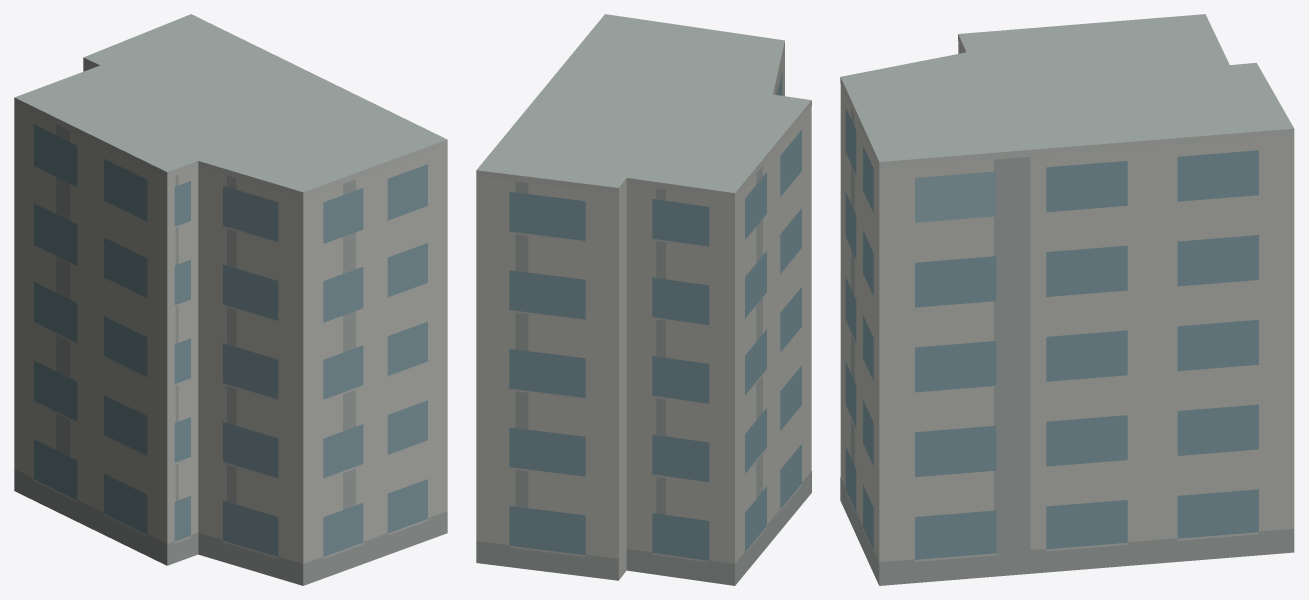
File: survey-upis-32876627.glb
3 views of the same model, side by side, from view 1: azimuth 30°, elevation 25°; view 2: azimuth 150°, elevation 25°; view 3: azimuth 270°, elevation 25° (orthographic). The views are drawn at different scales.
Visible parts, largest first — view 1: survey-upis-32876627.tmp; view 2: survey-upis-32876627.tmp; view 3: survey-upis-32876627.tmp.
Part boxes in pixels (x1=…): survey-upis-32876627.tmp: x1=14, y1=14, x2=447, y2=585; survey-upis-32876627.tmp: x1=476, y1=14, x2=811, y2=585; survey-upis-32876627.tmp: x1=840, y1=14, x2=1294, y2=585.
Bounding box in the file's own units: 11.43 × 15.25 × 14.81.
